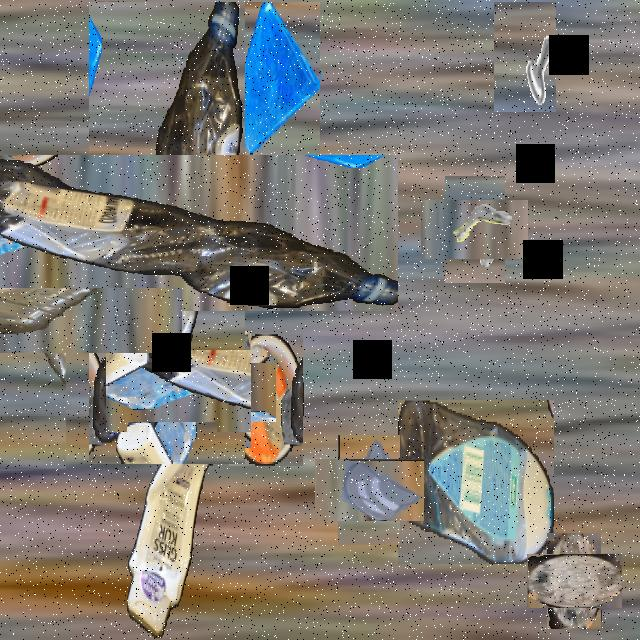glass: (232, 2, 320, 158), (121, 334, 235, 448), (172, 344, 264, 435), (326, 448, 412, 534)
metal: (433, 188, 517, 271), (494, 2, 556, 112)
plastic: (12, 79, 322, 388), (398, 400, 554, 564), (0, 228, 124, 411), (127, 422, 217, 638), (229, 334, 303, 466)
wood: (536, 544, 612, 619)
